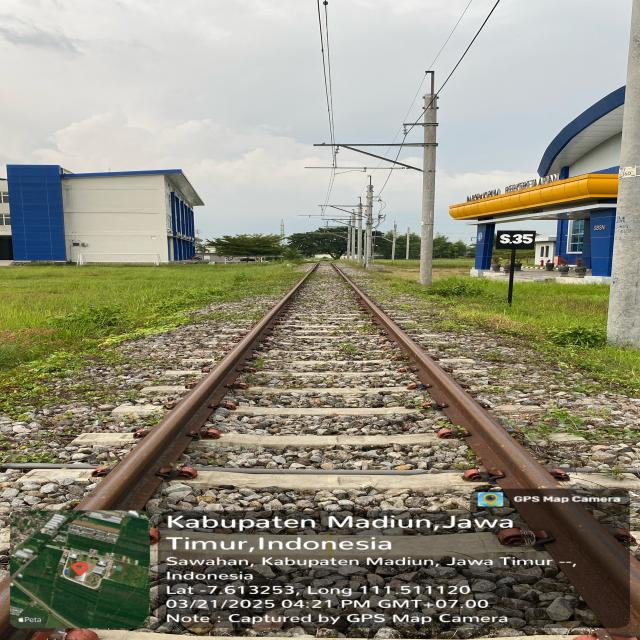rail-detection: (331, 264, 640, 631), (76, 278, 307, 510)
